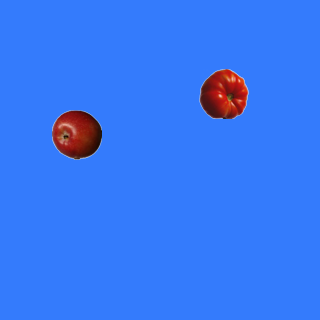Apple Braeburn: (51, 109, 101, 159)
Tomato 3: (198, 68, 248, 118)
